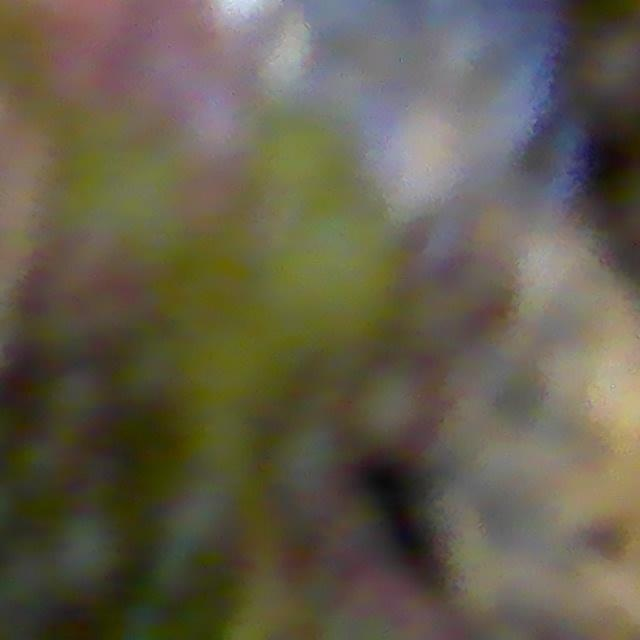SeaGrape: (45, 510, 127, 593), (351, 368, 431, 452), (579, 27, 640, 111), (47, 364, 111, 426)
